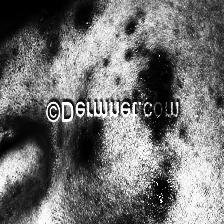Non-Cancerous Skin Condition: (86, 40, 205, 96), (60, 0, 128, 52), (138, 160, 196, 203), (64, 122, 107, 178), (34, 0, 55, 23)
